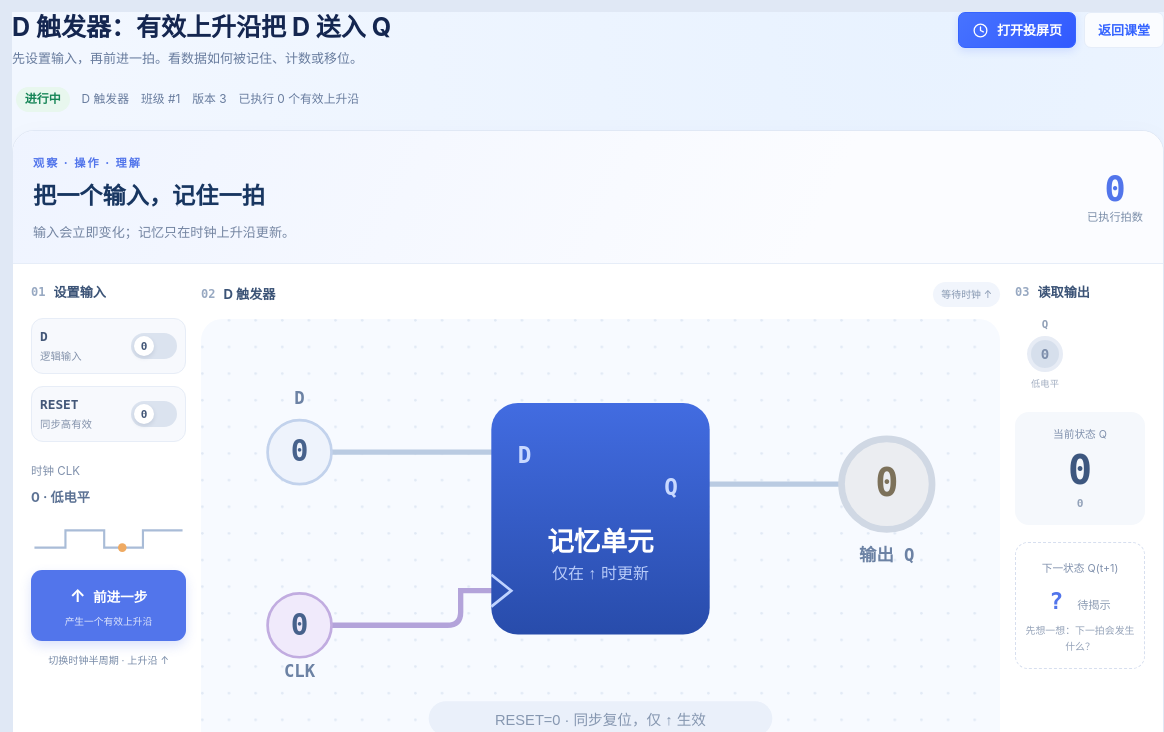
Test case: 教师演示控制台 › 切换时钟带 expected_version 发送动作并采用服务器状态
The width and height of the screenshot is (1164, 732).
Step 1. Click the button "切换时钟半周期 · 上升沿 ↑" → (108, 655), box [31,641,186,668]
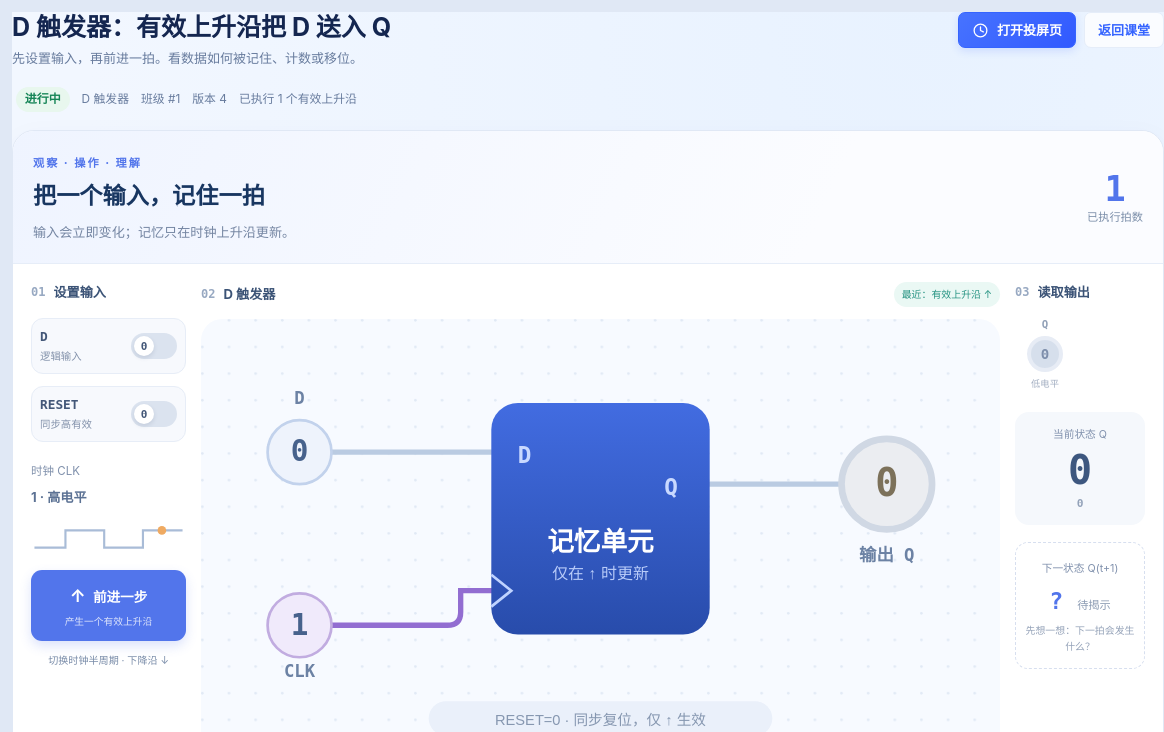
Now the text "版本 4" is shown, box [192,90,227,109]
